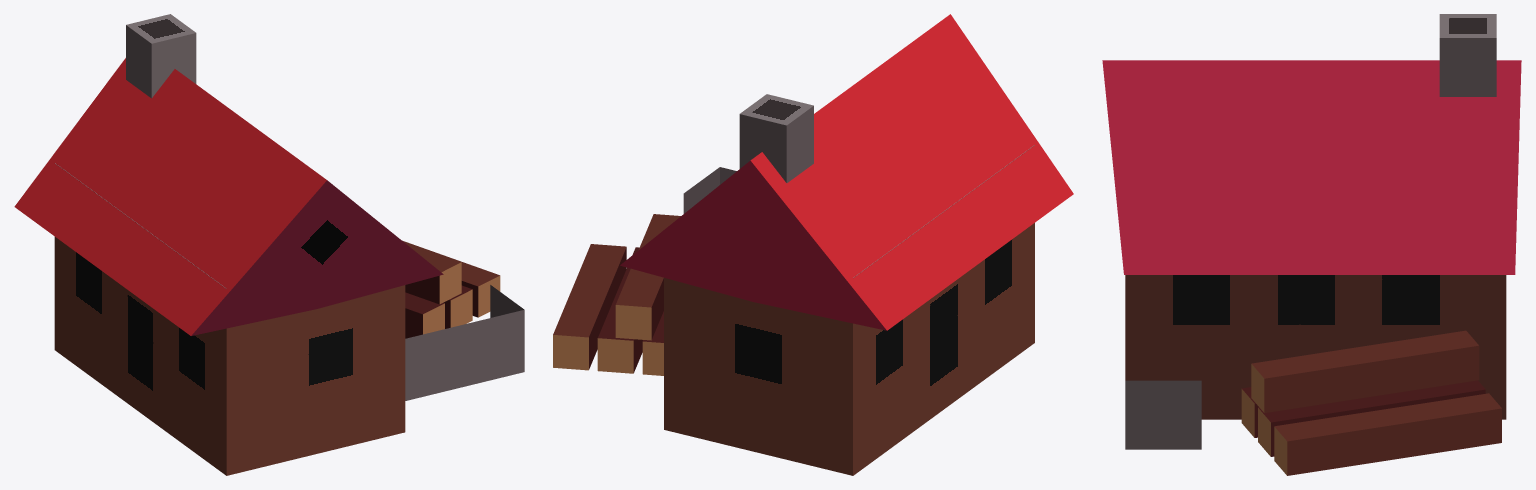
File: forest_house_1.gltf
3 renders of one model, left to right at view 1: azimuth 30°, elevation 25°; view 2: azimuth 150°, elevation 25°; view 3: azimuth 270°, elevation 25°, orthographic. The views are drawn at different scales.
Visible parts, largest first — view 1: Forest_house_1, plane (×2), group21; view 2: Forest_house_1, group21, plane; view 3: Forest_house_1, group21, plane.
Part boxes in pixels (x1,y1,x2,y2): Forest_house_1: (14,14,443,475); plane (×2): (405,285,524,400); group21: (402,240,500,338); Forest_house_1: (620,14,1073,475); group21: (553,214,680,375); plane: (683,167,719,213); Forest_house_1: (1102,14,1521,419); group21: (1241,330,1501,475); plane: (1125,380,1201,449).
Size of the model in its own units: 0.8034 by 0.625 by 0.6875.
1 material, 1 textured.
